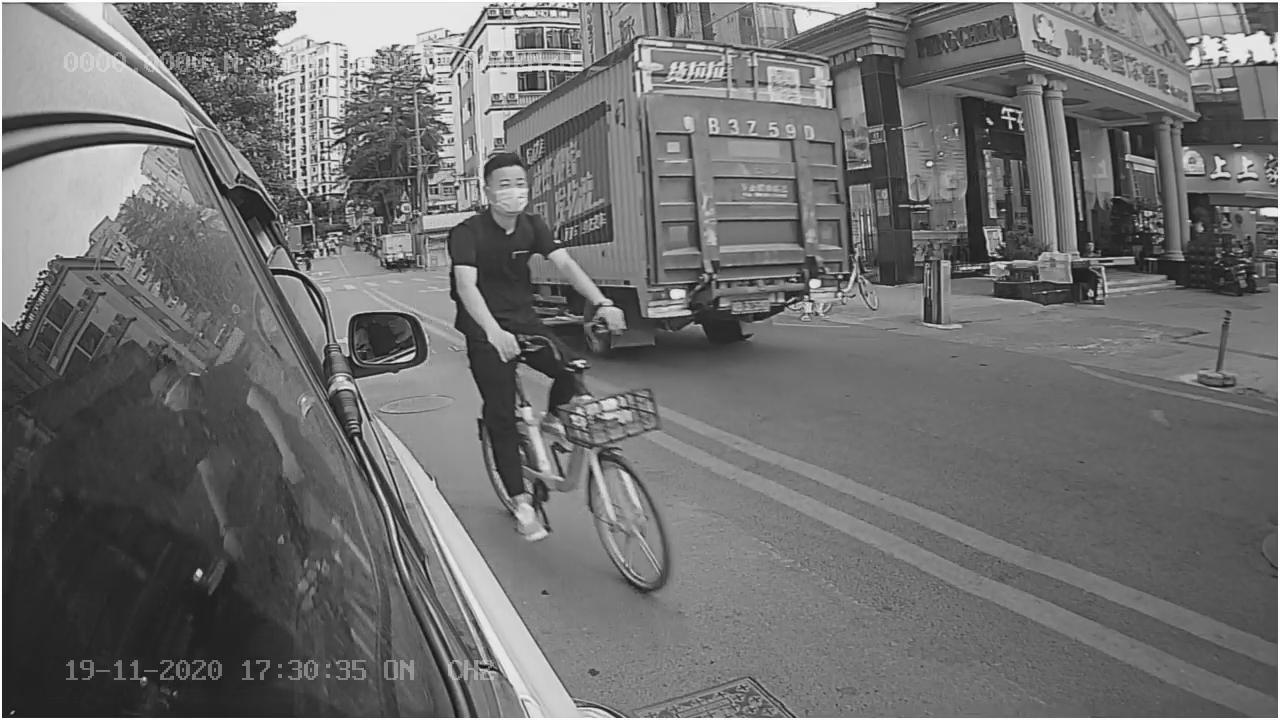person: (447, 150, 566, 330)
